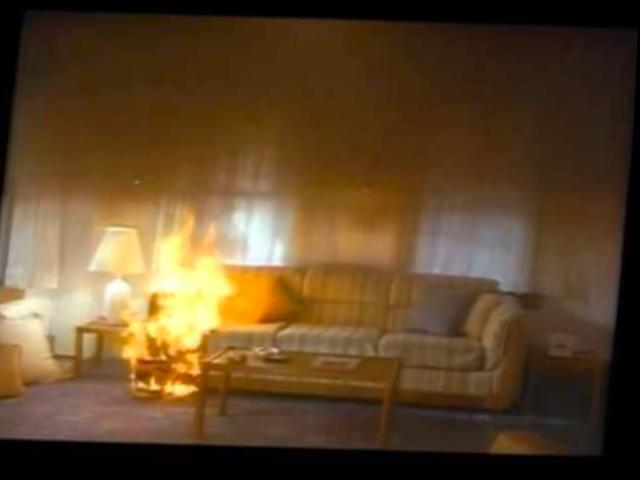fire: (122, 222, 240, 403)
